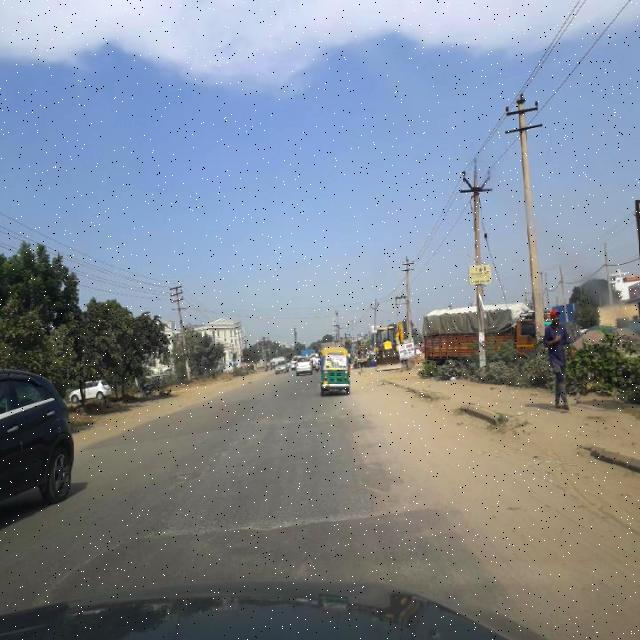D00: (46, 540, 126, 598)
D10: (129, 495, 431, 549)
